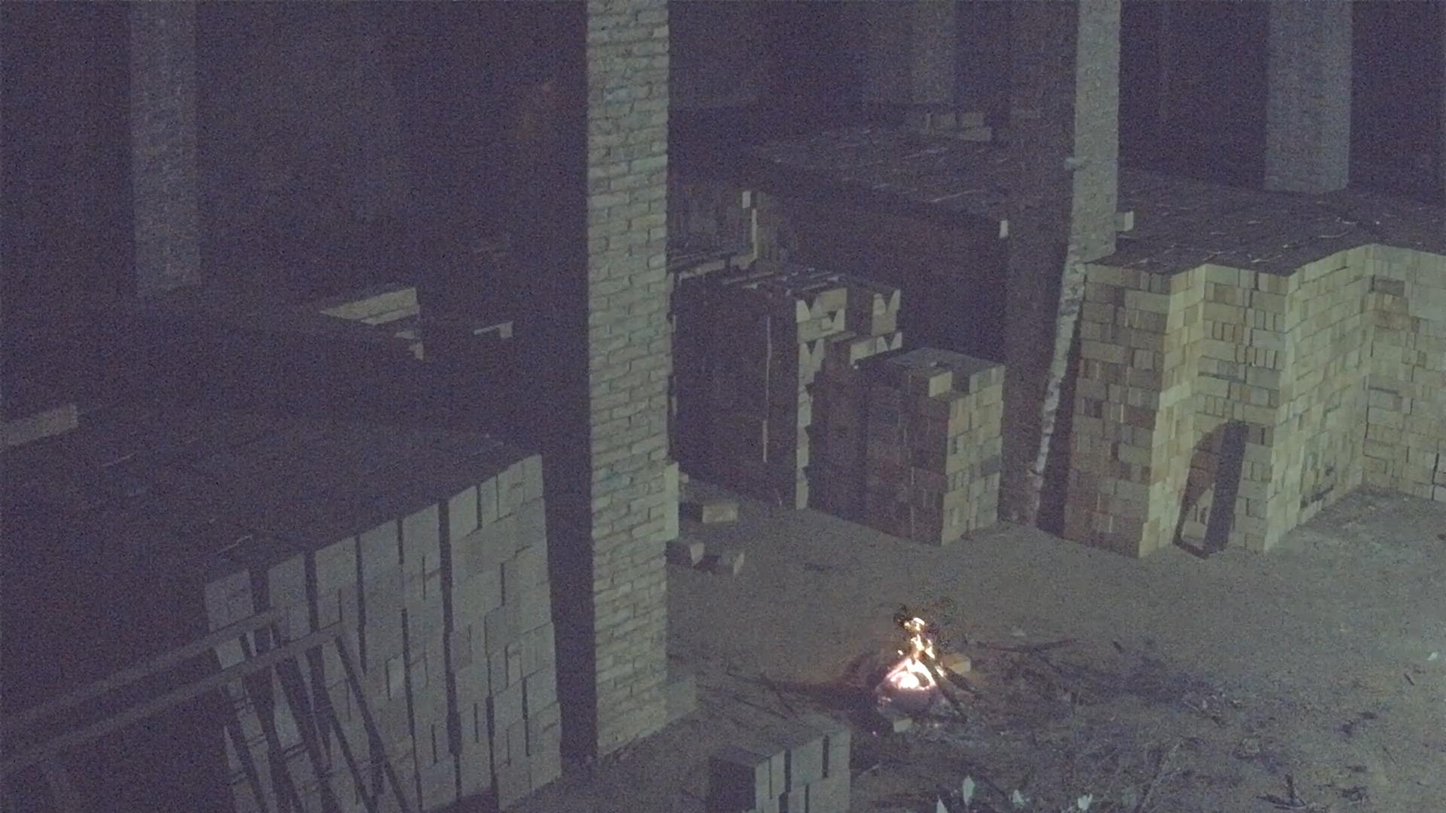fire: (883, 617, 944, 695)
